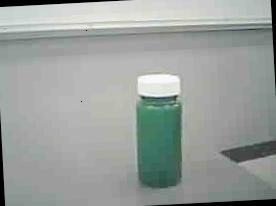Bottle C: (129, 69, 194, 199)
